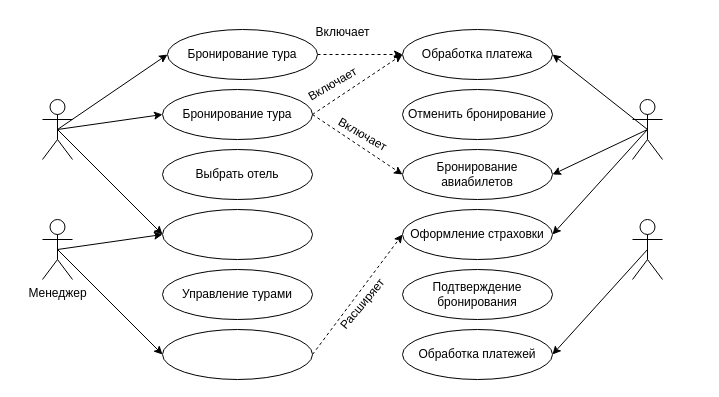
Image size: 719x397. Some labels were removed from this diagram. Here are the shapes that lost their labels. From the top down, the box of each, then its label:
(42, 98, 72, 160): Турист/Клиент
(632, 98, 662, 160): Поставщик/партнер
(162, 208, 312, 260): Получение док-тов
(632, 218, 662, 280): Администратор
(162, 328, 312, 380): Оставить отзыв
